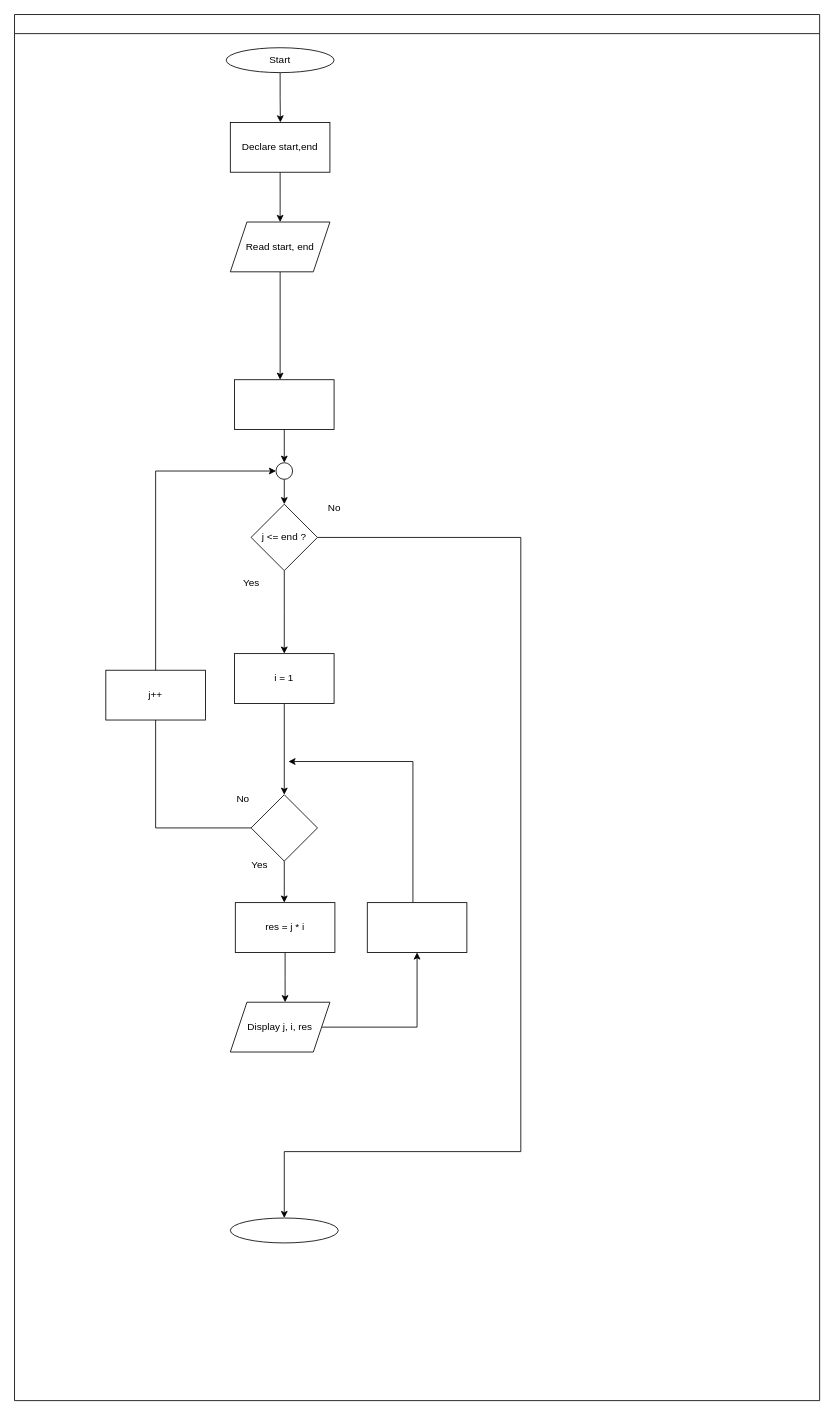
Some shapes in this 834 by 1415 pixel diagram are drawn without their labels. The shapes that lost their labels are listed below. From the top down, each one's centre as x and y in pixels, then its label:
[284,404]: j = start
[283,827]: i <= 9 ?
[416,927]: i ++
[283,1230]: End
